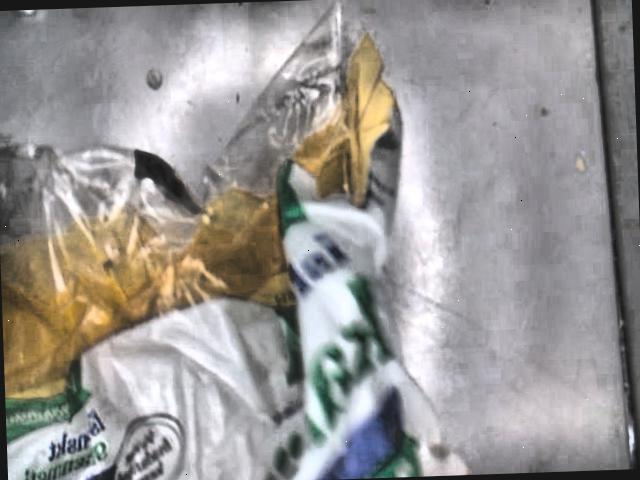Plastic: (0, 0, 471, 480)
